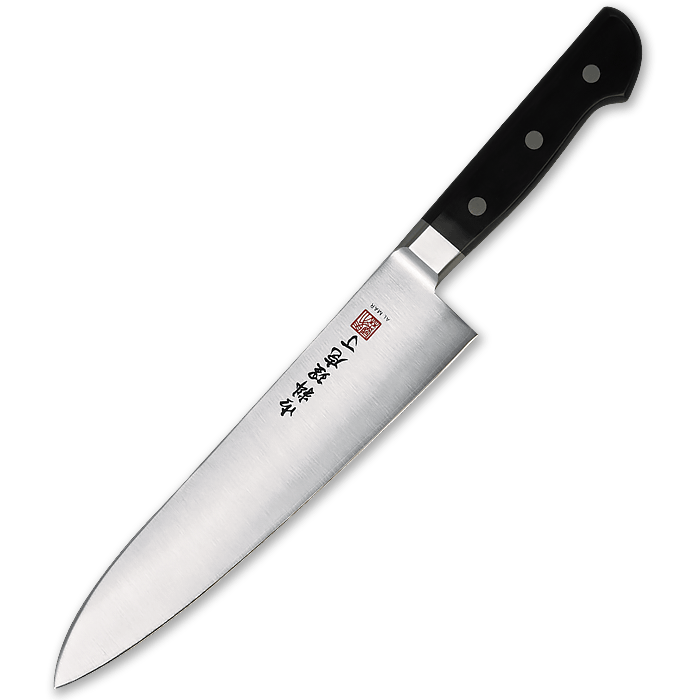knife: (52, 6, 641, 683)
